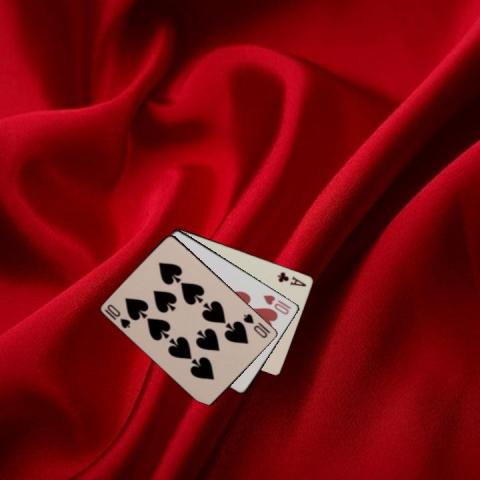10h: (260, 292, 292, 316)
10s: (104, 301, 132, 330), (241, 311, 269, 339)
Ac: (275, 269, 308, 288)
